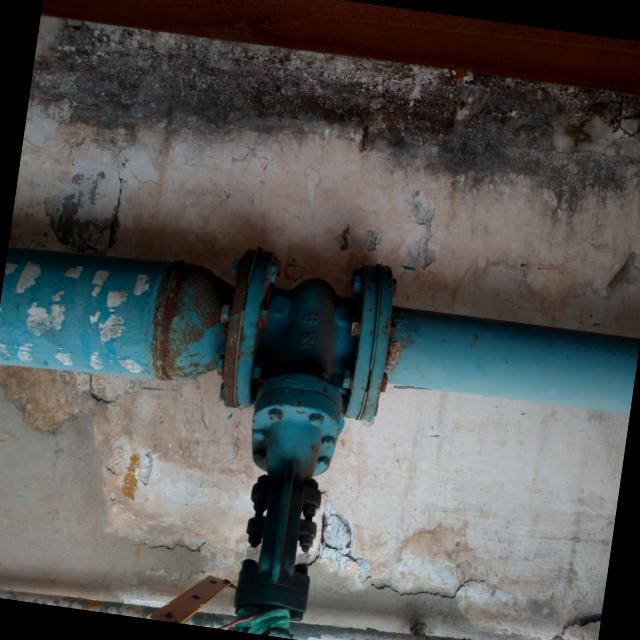gas: (0, 219, 640, 463)
